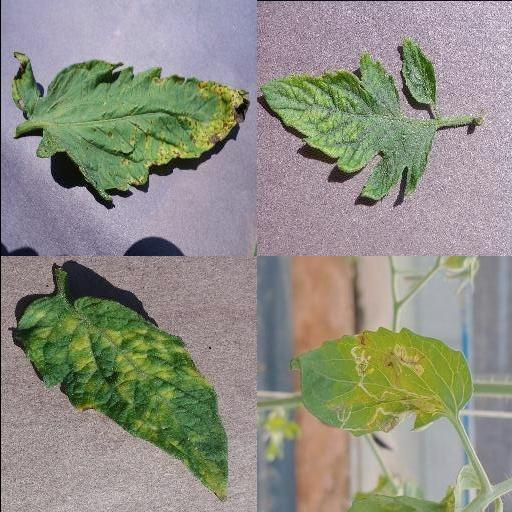Leaf Miner: (289, 326, 473, 438)
Leaf Mold: (12, 294, 230, 502)
Mosaic Virus: (258, 39, 436, 201)
Septoria: (10, 54, 250, 200)
